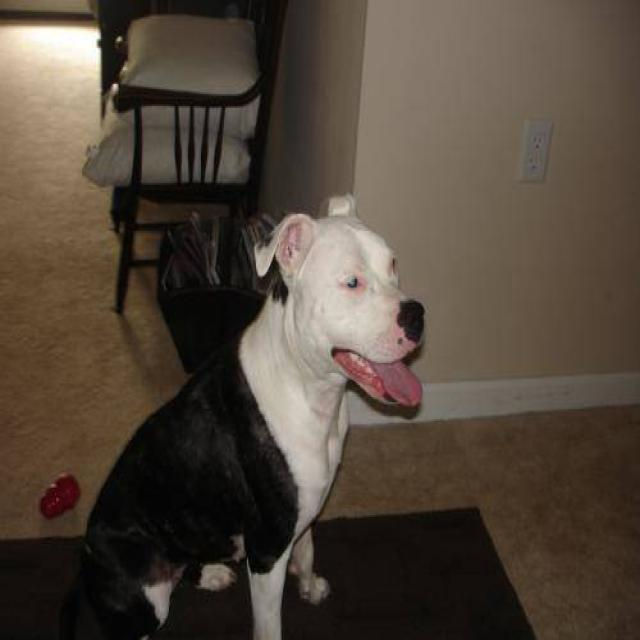dog: (58, 190, 425, 638)
